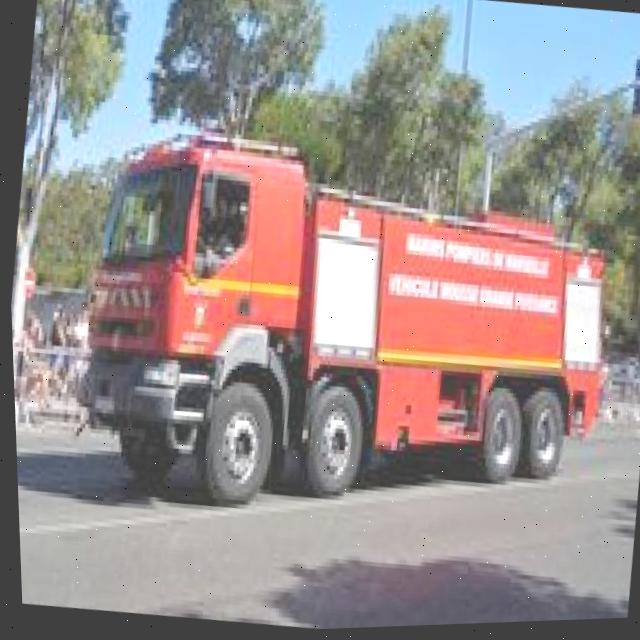emergency: (65, 124, 632, 526)
